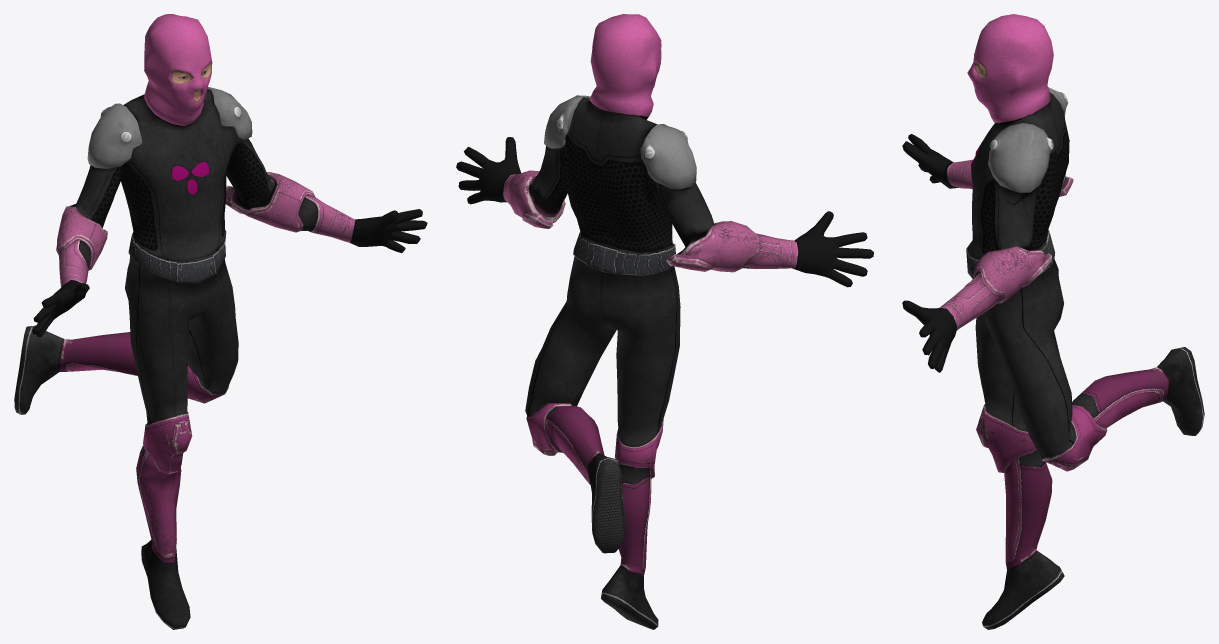
The model's file is mommyson.glb.
3 renders of one model, left to right at view 1: azimuth 30°, elevation 25°; view 2: azimuth 150°, elevation 25°; view 3: azimuth 270°, elevation 25°, orthographic. The views are drawn at different scales.
Parts seen in each view (by area): view 1: mommyson_fix; view 2: mommyson_fix; view 3: mommyson_fix.
Part boxes in pixels (<box>): mommyson_fix: <box>14,14,427,629</box>; mommyson_fix: <box>456,14,873,629</box>; mommyson_fix: <box>902,14,1204,629</box>.
Bounding box in the file's own units: 134 × 192 × 85.65.
Materials: 1 (1 with a texture image).
